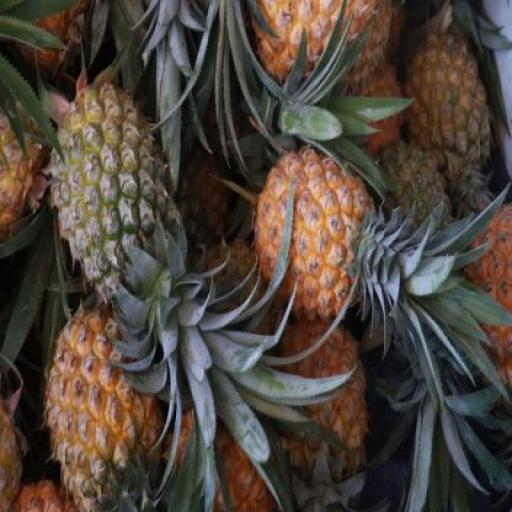------------------------------: (47, 72, 179, 296)
Pineapple - v8 v1: (43, 306, 160, 504), (250, 151, 372, 336)
